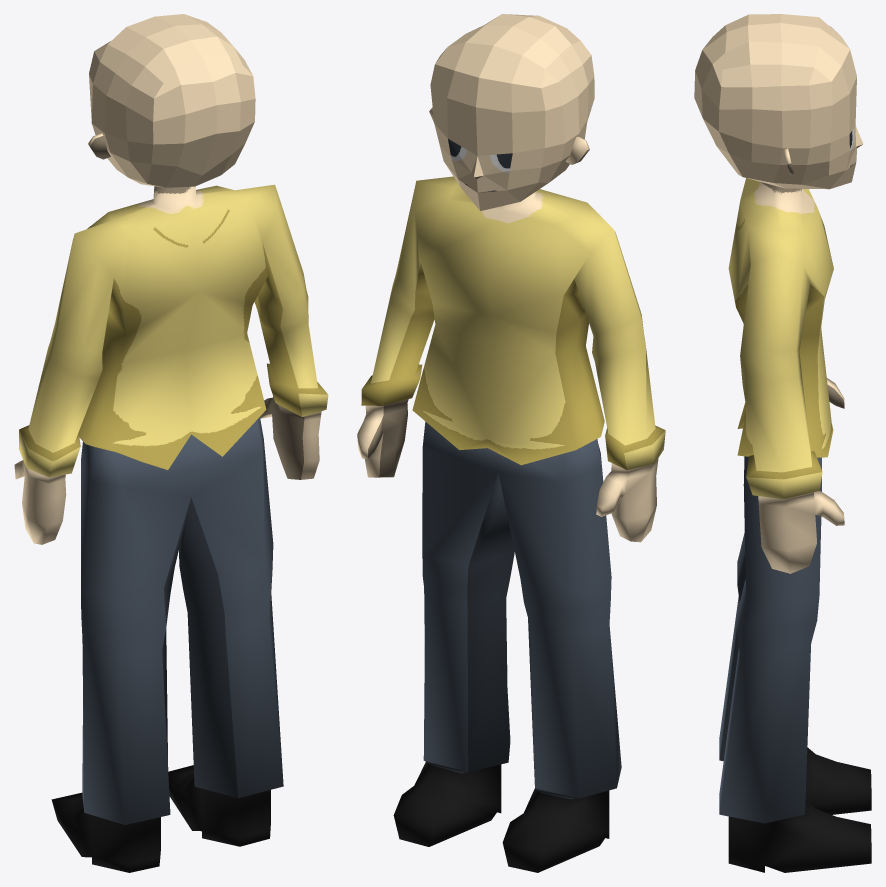
Rendered from M BALD.glb.
3 renders of one model, left to right at view 1: azimuth 30°, elevation 25°; view 2: azimuth 150°, elevation 25°; view 3: azimuth 270°, elevation 25°, orthographic.
Parts seen in each view (by area): view 1: MEN OFFICE, MAN HEAD; view 2: MEN OFFICE, MAN HEAD; view 3: MEN OFFICE, MAN HEAD.
Boxes of the visible parts, x1,y1,x2,y2 form: MEN OFFICE: (14, 184, 328, 872); MAN HEAD: (89, 14, 255, 187); MEN OFFICE: (357, 176, 665, 872); MAN HEAD: (430, 14, 594, 210); MEN OFFICE: (719, 178, 871, 872); MAN HEAD: (694, 14, 863, 189).
Size of the model in its own units: 3.32 by 8.86 by 1.76.
Materials: 3 (3 with a texture image).
